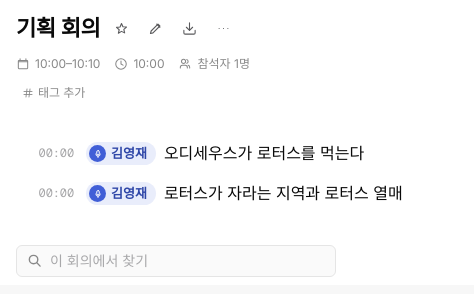
Test case: 마지막 매칭에서 다음을 누르면 처음으로 순환한다
Type "로터스" into the search field labelled "이 회의에서 찾기" at {"x": 188, "y": 261}, box [50, 250, 327, 271]
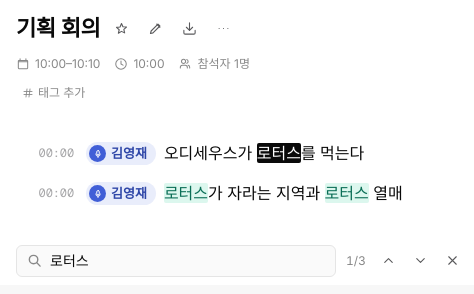
Click the button named "다음 결과" at {"x": 421, "y": 261}, box [408, 248, 434, 274]
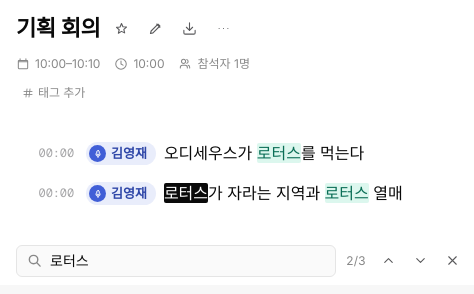
Click the button named "다음 결과" at {"x": 421, "y": 261}, box [408, 248, 434, 274]
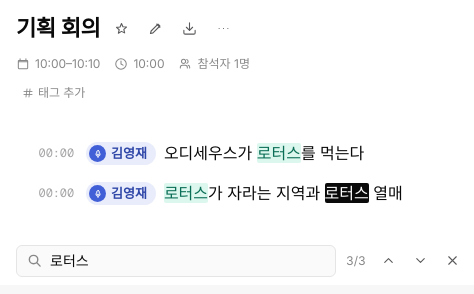
Result: the text "3/3" is shown at [346, 253, 366, 268]
Click the button named "다음 결과" at {"x": 421, "y": 261}, box [408, 248, 434, 274]
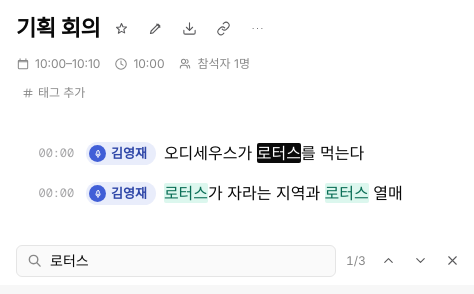
Result: the text "1/3" is shown at [346, 253, 366, 268]
